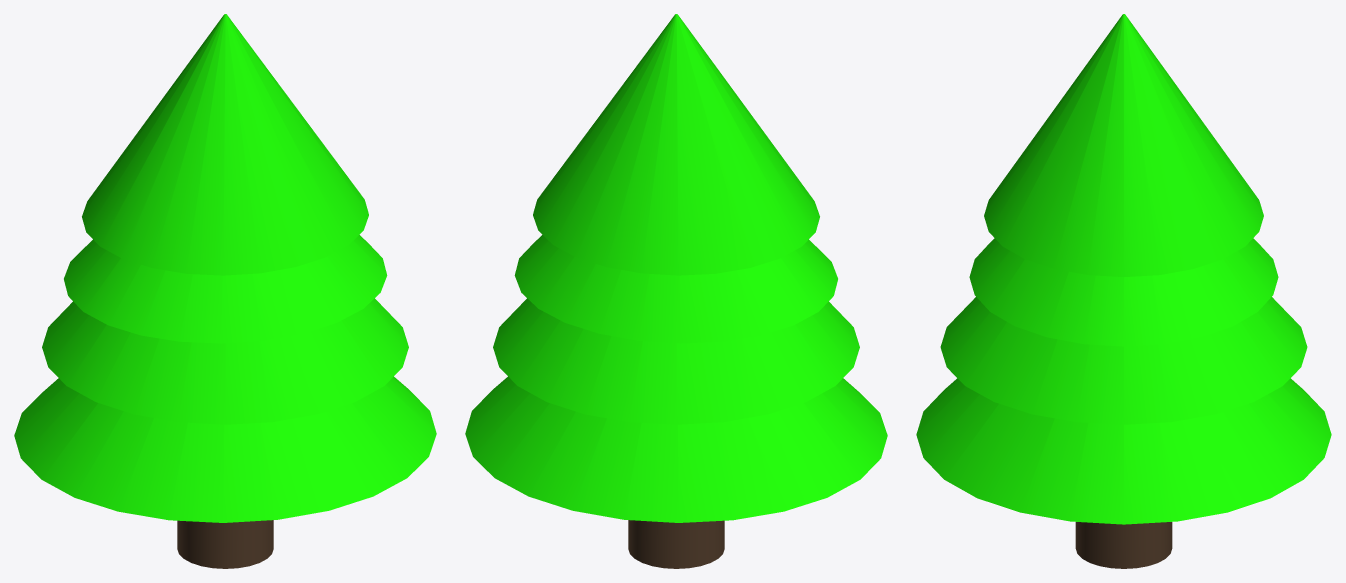
File: Tree1.fbx
The picture shows the model from 3 angles, left to right: view 1: azimuth 30°, elevation 25°; view 2: azimuth 150°, elevation 25°; view 3: azimuth 270°, elevation 25°; orthographic projection.
Visible parts, largest first — view 1: cylinder_cone_26, cylinder_cone_29, cylinder_cone_28, cylinder_cone_27, cylinder_full_25; view 2: cylinder_cone_26, cylinder_cone_29, cylinder_cone_28, cylinder_cone_27, cylinder_full_25; view 3: cylinder_cone_26, cylinder_cone_29, cylinder_cone_28, cylinder_cone_27, cylinder_full_25.
Part boxes in pixels (<box>): cylinder_cone_26: <box>82,14,368,275</box>; cylinder_cone_29: <box>14,376,436,522</box>; cylinder_cone_28: <box>42,298,408,424</box>; cylinder_cone_27: <box>64,235,387,343</box>; cylinder_full_25: <box>177,520,273,568</box>; cylinder_cone_26: <box>533,14,819,275</box>; cylinder_cone_29: <box>465,376,887,522</box>; cylinder_cone_28: <box>493,298,859,424</box>; cylinder_cone_27: <box>514,235,837,343</box>; cylinder_full_25: <box>628,520,724,568</box>; cylinder_cone_26: <box>984,14,1263,276</box>; cylinder_cone_29: <box>916,378,1331,524</box>; cylinder_cone_28: <box>940,297,1307,424</box>; cylinder_cone_27: <box>969,238,1278,346</box>; cylinder_full_25: <box>1075,522,1172,568</box>.
Size of the model in its own units: 44 by 61 by 43.
